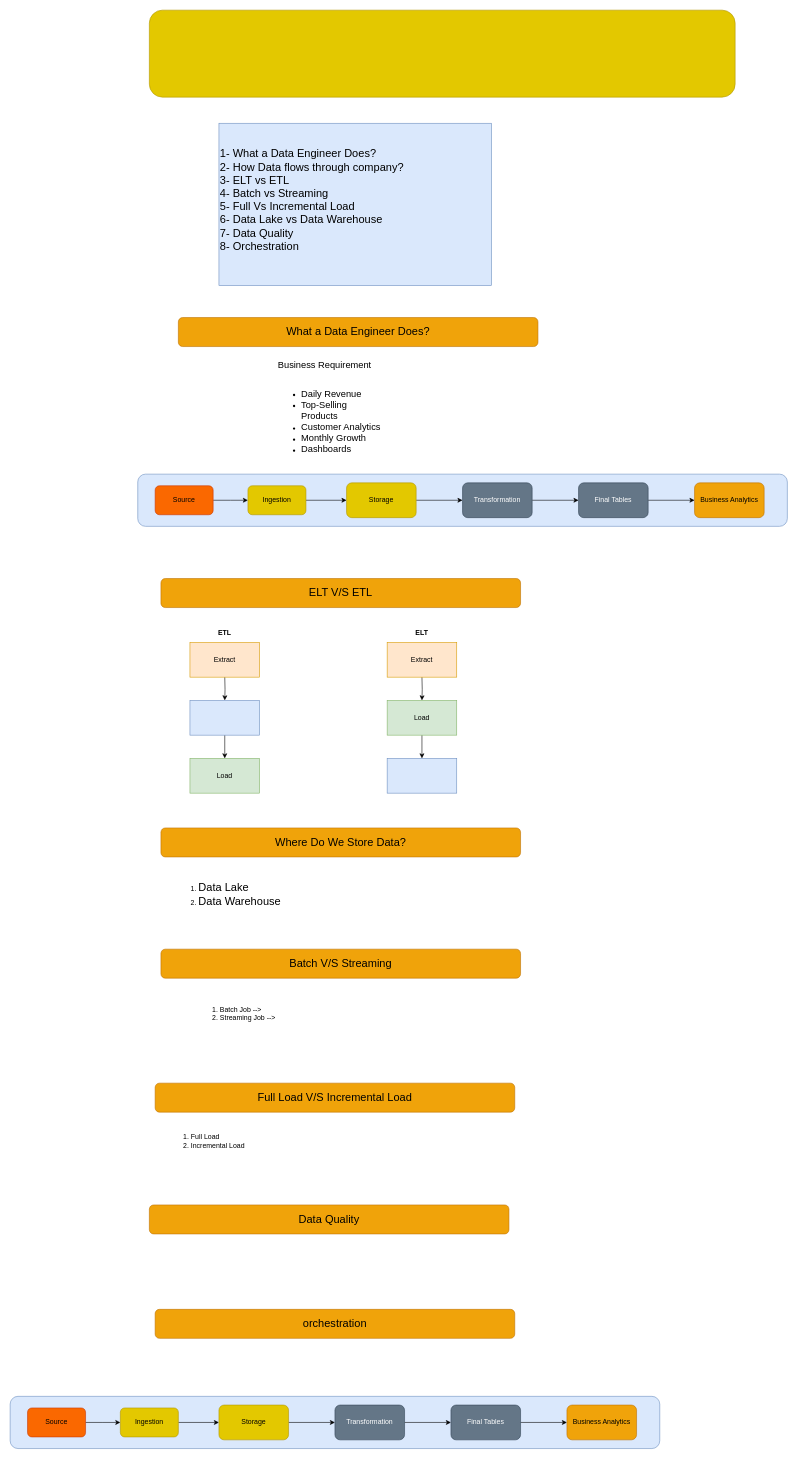
This 798x1459 diagram has some shape labels left out. Here are the shapes that lost their labels. From the top down, the centre of each, then its label:
At point 442,53: "Data Engineering Fundamentals".
At point 224,717: "Trasform".
At point 422,775: "Transform".
